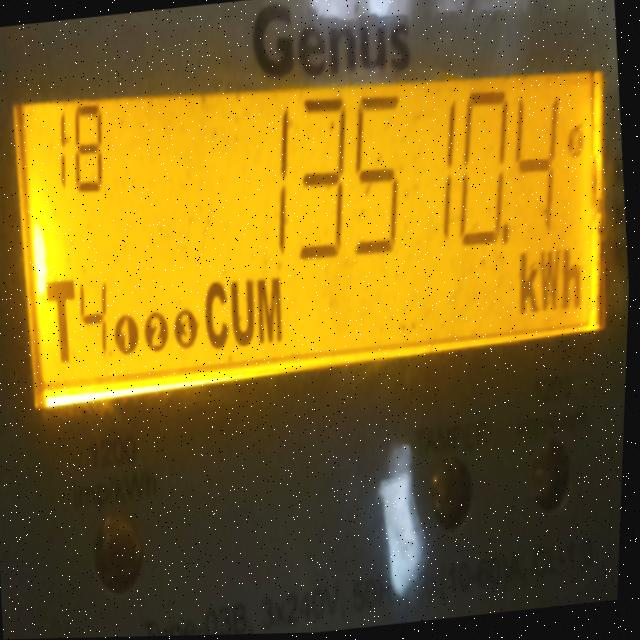.: (503, 224, 514, 245)
0: (451, 94, 513, 250), (508, 95, 566, 236)
1: (433, 93, 470, 245), (271, 104, 302, 260), (54, 109, 72, 192)
3: (288, 96, 357, 263)
5: (345, 93, 410, 254)
8: (72, 107, 106, 198)
